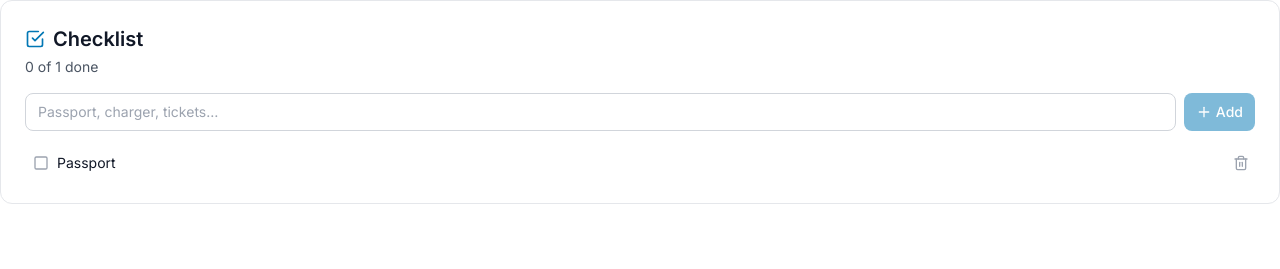
Test: the checklist ticks instantly, and takes it back if the server refuses › a refused tick is rolled back, and the reader is told
The width and height of the screenshot is (1280, 269).
Click the button "Passport": click(86, 162) [25,147,1219,179]
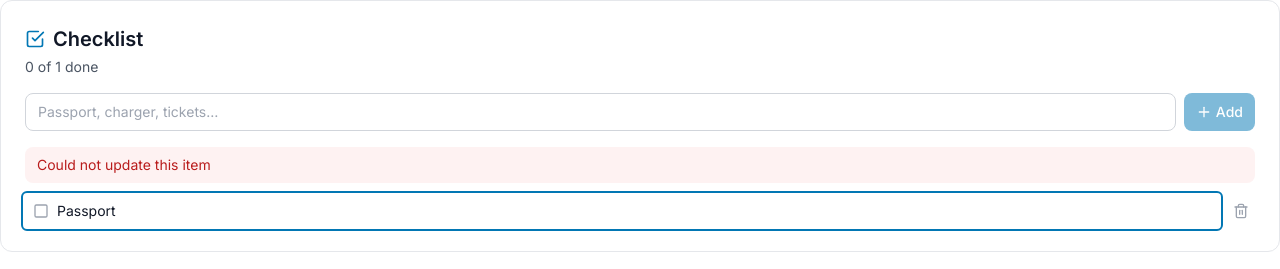
Expected: the message reads "Could not update this item", [37,156,211,173]
